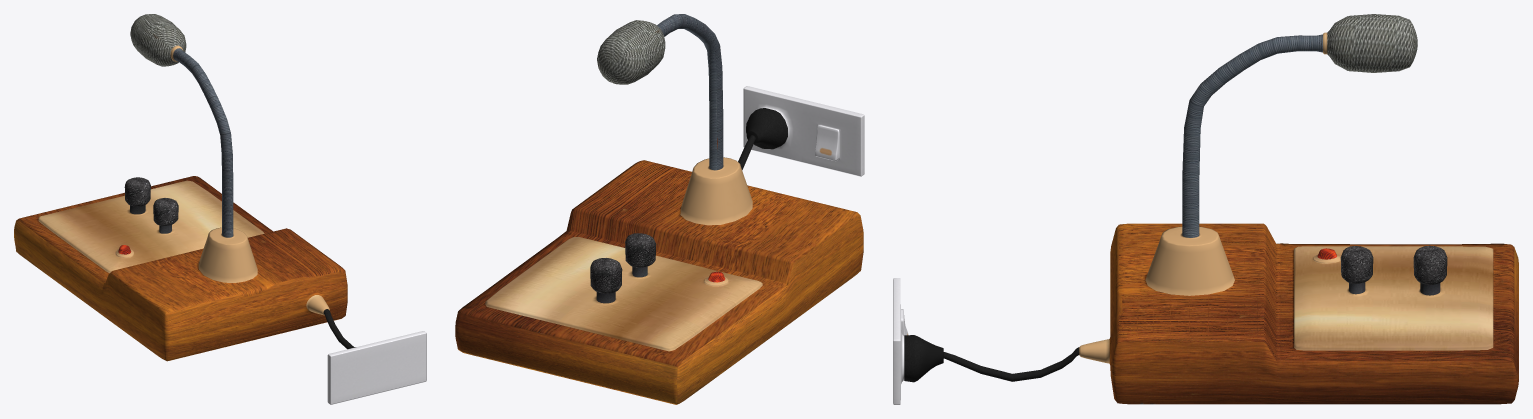
The model's file is Robbers_T3ANI210_PAMic_Abdilla.fbx.
The picture shows the model from 3 angles, left to right: view 1: azimuth 30°, elevation 25°; view 2: azimuth 150°, elevation 25°; view 3: azimuth 270°, elevation 25°; orthographic projection. The views are drawn at different scales.
Visible parts, largest first — view 1: PAMic_HighRes; view 2: PAMic_HighRes; view 3: PAMic_HighRes.
Boxes of the visible parts, left/top/right/bottom form: PAMic_HighRes: left=14, top=14, right=426, bottom=404; PAMic_HighRes: left=455, top=14, right=864, bottom=404; PAMic_HighRes: left=893, top=14, right=1518, bottom=404.
Size of the model in its own units: 12.83 by 16.71 by 28.55.
6 materials, 6 textured.
